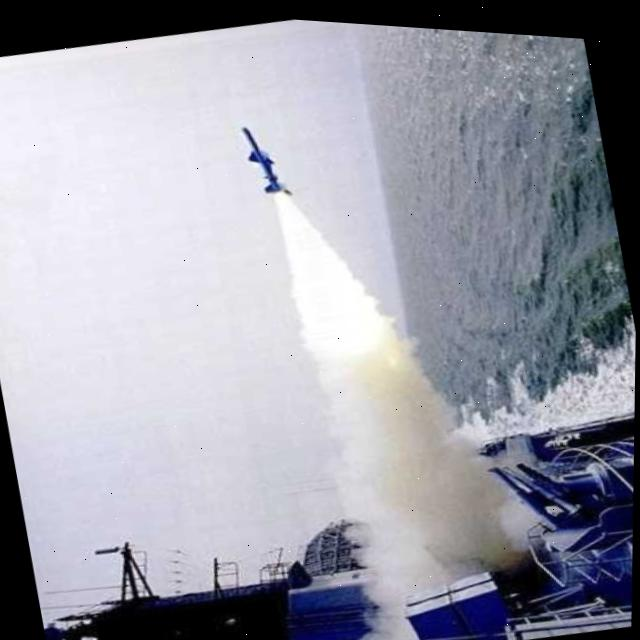missile: (235, 113, 292, 200)
